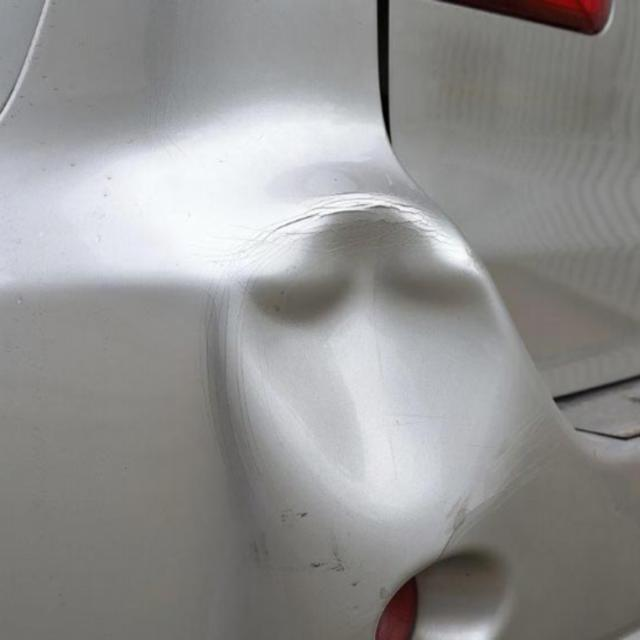dents: (219, 179, 534, 547)
